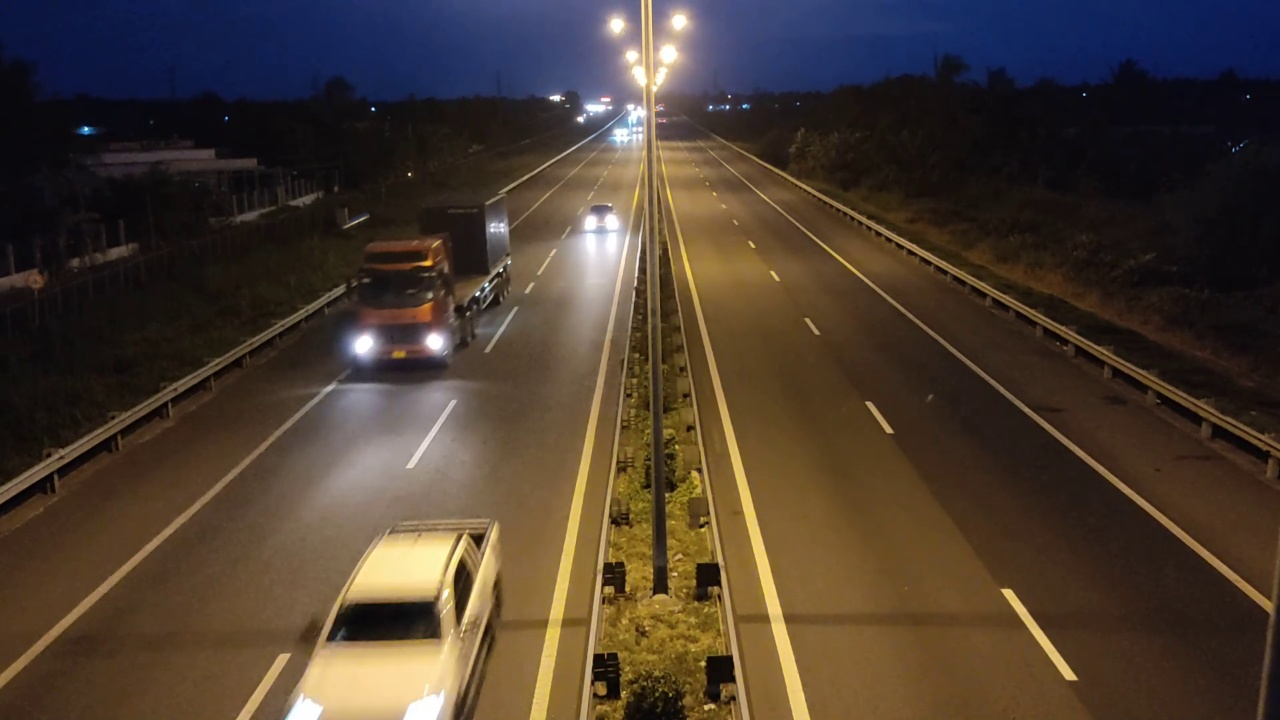car: (279, 516, 503, 720)
truck: (346, 185, 515, 375)
